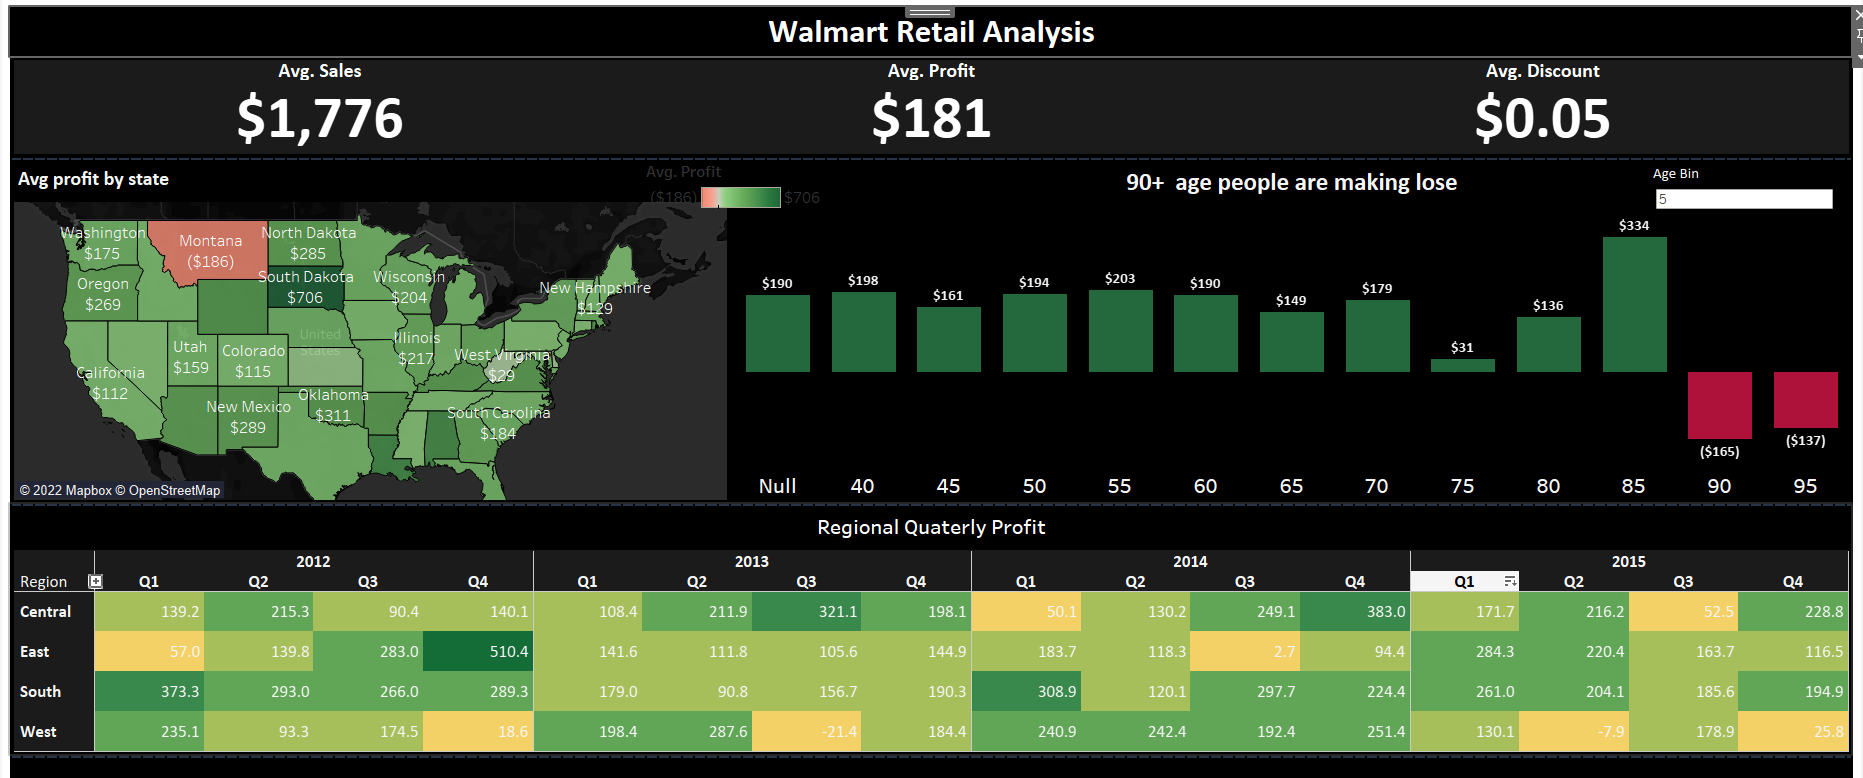

The dashboard page shown, as its layout file describes it:
{"tool":"tableau","page":{"name":"Dashboard 1","canvas":[1000,1000],"units":"permille","ordinal":0},"visuals":[{"type":"text","box":[4.3,10,991.4,61.5]},{"type":"worksheet","title":"Avg","mark":"Automatic","box":[4.3,71.5,991.4,128]},{"type":"worksheet","title":"State vs profit","mark":"Multipolygon","box":[4.3,199.5,387.8,434.1]},{"type":"worksheet","title":"Avg vs profit","mark":"Automatic","rows":["Profit"],"cols":["Customer Age (bin)"],"box":[392.1,199.5,603.5,434.1]},{"type":"legend","title":"State vs profit","param":"[federated.0t0o08j0y0u6ec15fp74k0cfwtlp].[avg:Profit:qk]","box":[346.4,203.3,96.4,61.5]},{"type":"parameter","param":"[Parameters].[Parameter 1]","box":[888.2,207,98.3,60.2]},{"type":"worksheet","title":"Regional Profit","mark":"Square","rows":["Region"],"cols":["Order Date","Order Date"],"box":[4.3,633.6,991.4,316.2]},{"type":"blank","box":[4.3,949.8,991.4,40.1]}]}

Visuals, with their boxes on the dashboard's canvas, which has no fixed pixel size, in thousandths of its width and height (x1, y1, x2, y2). These are canvas units, not pixel positions in the 1863x778 screenshot, which may show the page scaled, cropped or inside an application window:
text: [left=4, top=10, right=996, bottom=72]
"Avg" worksheet: [left=4, top=72, right=996, bottom=200]
"State vs profit" worksheet (Multipolygon marks): [left=4, top=200, right=392, bottom=634]
"Avg vs profit" worksheet: [left=392, top=200, right=996, bottom=634]
"State vs profit" legend: [left=346, top=203, right=443, bottom=265]
parameter: [left=888, top=207, right=986, bottom=267]
"Regional Profit" worksheet (Square marks): [left=4, top=634, right=996, bottom=950]
blank: [left=4, top=950, right=996, bottom=990]
